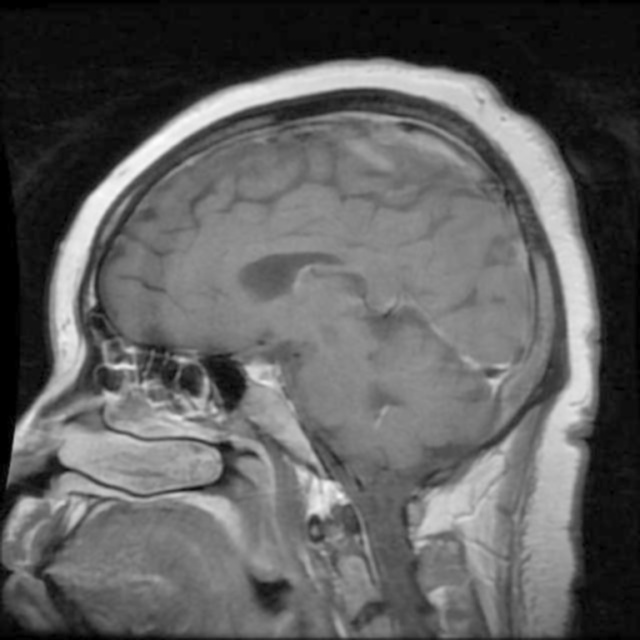no tumor: (242, 352, 286, 398)
